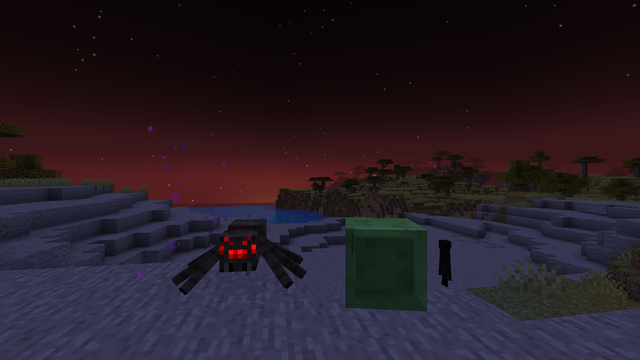araignees: (186, 215, 288, 296)
endermens: (441, 238, 452, 287)
slimes: (336, 214, 434, 313)
